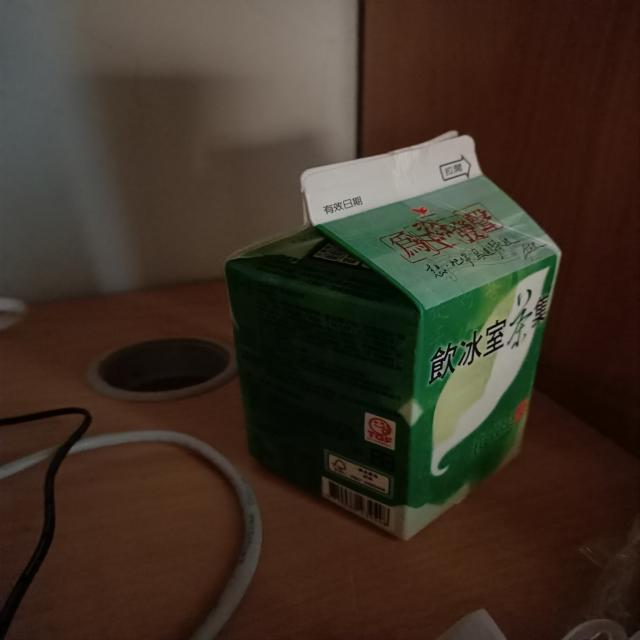YinBinShi_MilkGreenTea: (216, 129, 564, 552)
